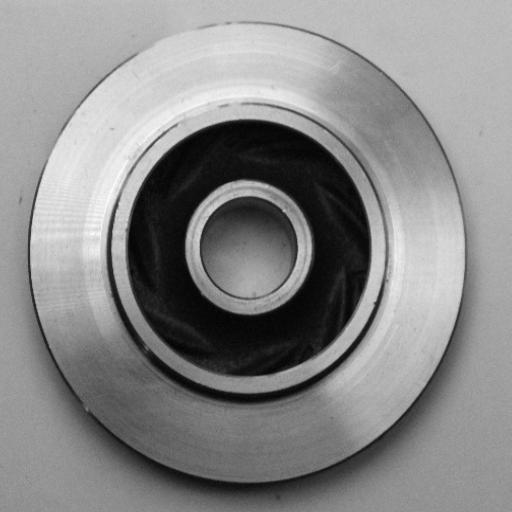scratch: (149, 91, 272, 137)
unpolished_casting: (27, 17, 468, 490)
